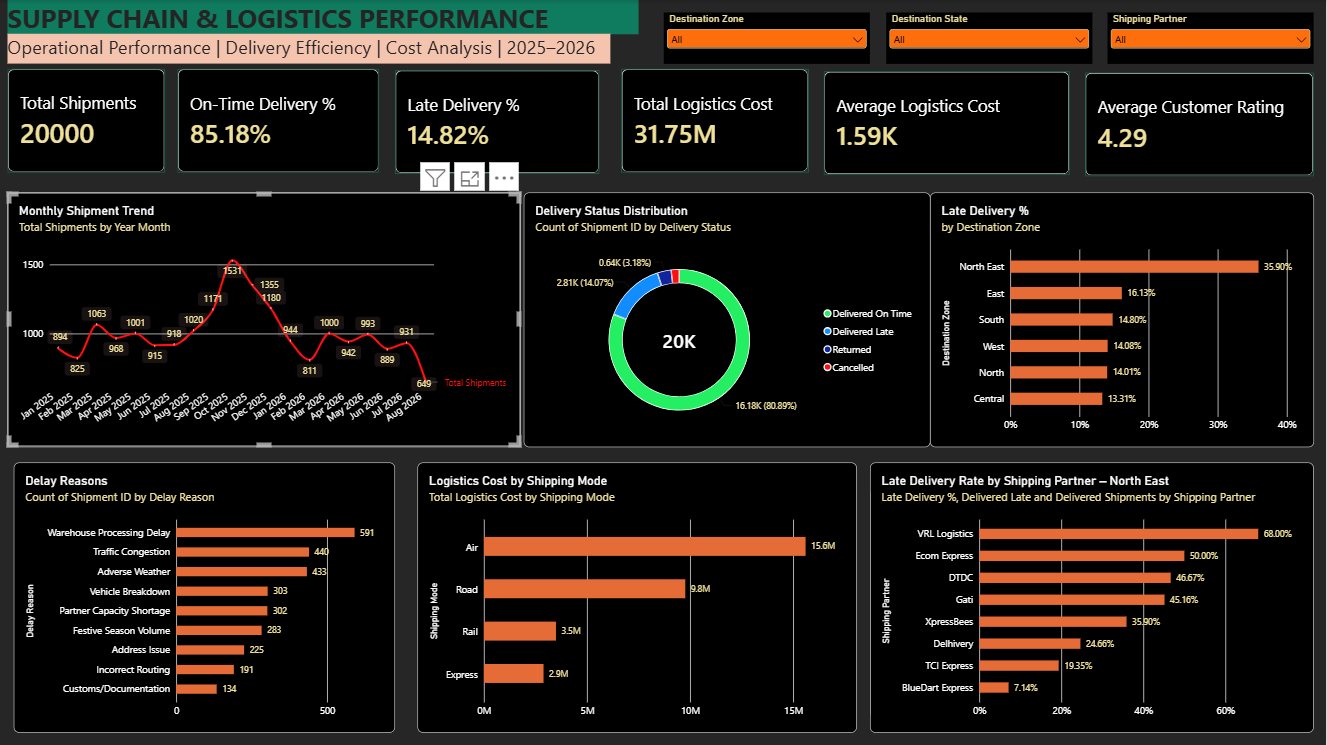

This screenshot's page, from the dashboard's own definition file:
{"tool":"powerbi","page":{"name":"Supply Chain Overview.","canvas":[1920,1080],"ordinal":0},"visuals":[{"type":"textbox","box":[10.3,0,913.9,49.4],"z":0},{"type":"textbox","box":[10.3,49.4,872.7,43.2],"z":1},{"type":"cardVisual","fields":{"Data":["Shipments.On-Time Delivery %"]},"box":[257.3,98.8,292.3,150.3],"z":3},{"type":"cardVisual","fields":{"Data":["Shipments.Total Shipments"]},"box":[10.3,98.8,228.5,150.3],"z":4},{"type":"cardVisual","fields":{"Data":["Shipments.Late Delivery %"]},"box":[572.2,100.9,296.4,150.3],"z":5},{"type":"cardVisual","fields":{"Data":["Shipments.Total Logistics Cost"]},"box":[899.5,98.8,271.7,150.3],"z":6},{"type":"cardVisual","fields":{"Data":["Shipments.Average Logistics Cost"]},"box":[1191.8,102.9,356.1,150.3],"z":7},{"type":"cardVisual","fields":{"Data":["Shipments.Average Customer Rating"]},"box":[1570.5,105,331.4,150.3],"z":8},{"type":"lineChart","title":"Monthly Shipment Trend","fields":{"Category":["Shipments.Order Date.Variation.Date Hierarchy.Month","Shipments.Order Date.Variation.Date Hierarchy.Day"],"Y":["Shipments.Total Shipments"]},"box":[10.3,277.9,743.1,368.4],"z":9},{"type":"donutChart","title":"Delivery Status Distribution","fields":{"Category":["Shipments.Delivery Status"],"Y":["CountNonNull(Shipments.Shipment ID)"]},"box":[757.5,277.9,588.7,368.4],"z":10},{"type":"clusteredBarChart","title":"Shipping Partner Performance","fields":{"Category":["Shipments.Shipping Partner"],"Y":["Shipments.On-Time Delivery %"]},"box":[1259.7,708.1,621.6,331.4],"z":11},{"type":"clusteredBarChart","title":"Logistics Cost by Shipping Mode","fields":{"Category":["Shipments.Shipping Mode"],"Y":["Shipments.Total Logistics Cost"]},"box":[605.1,669,636,391.1],"z":13},{"type":"barChart","title":"Delay Reasons","fields":{"Category":["Shipments.Delay Reason"],"Y":["CountNonNull(Shipments.Shipment ID)"]},"box":[20.6,669,551.6,391.1],"z":14},{"type":"clusteredBarChart","fields":{"Category":["Shipments.Destination Zone"],"Y":["Shipments.Late Delivery %"]},"box":[1346.1,277.9,555.7,368.4],"z":15},{"type":"clusteredBarChart","title":"Late Delivery Rate by Shipping Partner – North East","fields":{"Category":["Shipments.Shipping Partner"],"Y":["Shipments.Late Delivery %"]},"box":[1259.7,669,642.2,391.1],"z":16},{"type":"slicer","fields":{"Values":["Shipments.Destination Zone"]},"box":[961.2,18.5,298.5,74.1],"z":17},{"type":"slicer","fields":{"Values":["Shipments.Destination State"]},"box":[1282.3,18.5,298.5,74.1],"z":18},{"type":"slicer","fields":{"Values":["Shipments.Shipping Partner"]},"box":[1603.4,18.5,298.5,74.1],"z":19}]}

Visuals, with their boxes in screenshot pixels (x1, y1, x2, y2), scaled from the page's 1920x1080 canvas onto the 1327x745 screenshot:
textbox: crop(7, 0, 639, 34)
textbox: crop(7, 34, 610, 64)
cardVisual - Shipments.On-Time Delivery %: crop(178, 68, 380, 172)
cardVisual - Shipments.Total Shipments: crop(7, 68, 165, 172)
cardVisual - Shipments.Late Delivery %: crop(395, 70, 600, 173)
cardVisual - Shipments.Total Logistics Cost: crop(622, 68, 809, 172)
cardVisual - Shipments.Average Logistics Cost: crop(824, 71, 1070, 175)
cardVisual - Shipments.Average Customer Rating: crop(1085, 72, 1314, 176)
"Monthly Shipment Trend" lineChart: crop(7, 192, 521, 446)
"Delivery Status Distribution" donutChart: crop(524, 192, 930, 446)
"Shipping Partner Performance" clusteredBarChart: crop(871, 488, 1300, 717)
"Logistics Cost by Shipping Mode" clusteredBarChart: crop(418, 461, 858, 731)
"Delay Reasons" barChart: crop(14, 461, 395, 731)
clusteredBarChart - Shipments.Destination Zone x Shipments.Late Delivery %: crop(930, 192, 1314, 446)
"Late Delivery Rate by Shipping Partner – North East" clusteredBarChart: crop(871, 461, 1314, 731)
slicer - Shipments.Destination Zone: crop(664, 13, 871, 64)
slicer - Shipments.Destination State: crop(886, 13, 1093, 64)
slicer - Shipments.Shipping Partner: crop(1108, 13, 1314, 64)
